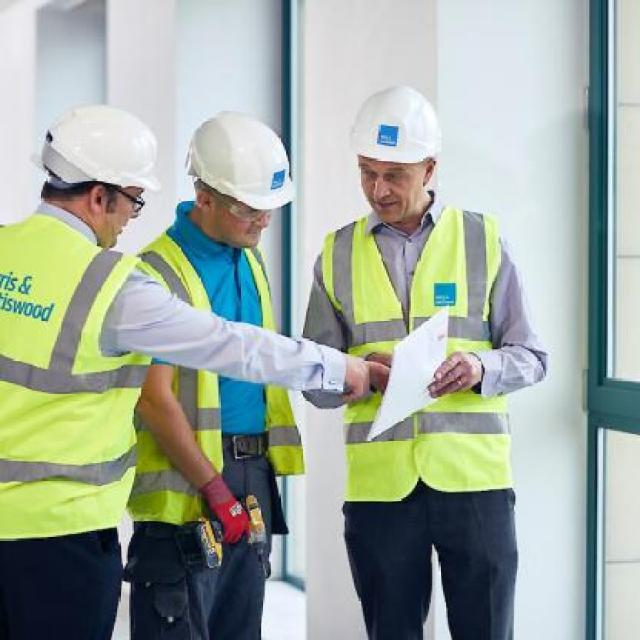helmet: (31, 100, 172, 207), (177, 114, 299, 224), (340, 81, 439, 173)
vest: (321, 217, 537, 496), (140, 237, 312, 530), (5, 225, 143, 551)
